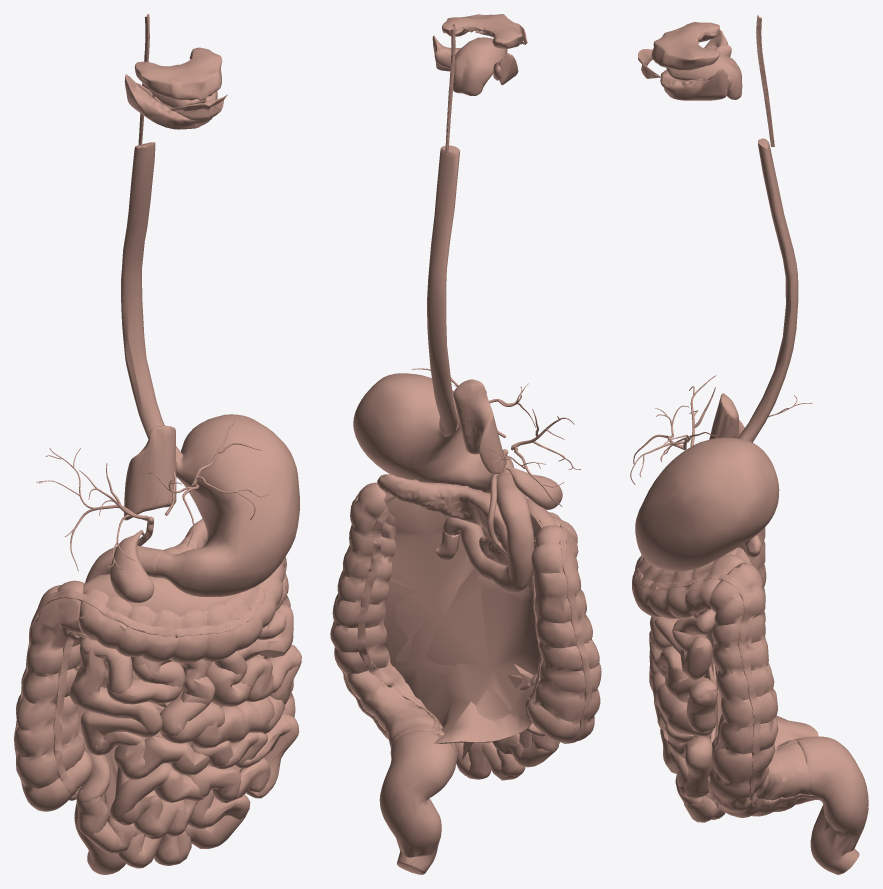
The model's file is digestive.glb.
3 views of the same model, side by side, from view 1: azimuth 30°, elevation 25°; view 2: azimuth 150°, elevation 25°; view 3: azimuth 270°, elevation 25° (orthographic). The views are drawn at different scales.
Visible parts, largest first — view 1: FMA7148, FMA16983, FMA14545, FMA14546, FMA14964, FMA14965, FMA7131, FMA14966, FMA16981, FMA13365, FMA59763, FMA16982 (+10 smaller); view 2: FMA14647, FMA14547, FMA14545, FMA7148, FMA14544, FMA7131, FMA7206, FMA14966, FMA13365, FMA7198, FMA15042, FMA63120 (+7 smaller); view 3: FMA14547, FMA7148, FMA14544, FMA7131, FMA14546, FMA16982, FMA16981, FMA15043, FMA59763, FMA14964, FMA59764, FMA54640 (+6 smaller).
Part boxes in pixels (bbox=[...]): FMA7148: bbox=[155, 414, 299, 596]; FMA16983: bbox=[69, 638, 245, 748]; FMA14545: bbox=[14, 580, 92, 811]; FMA14546: bbox=[79, 558, 285, 663]; FMA14964: bbox=[80, 711, 299, 787]; FMA14965: bbox=[110, 758, 273, 839]; FMA7131: bbox=[121, 142, 182, 459]; FMA14966: bbox=[76, 789, 250, 868]; FMA16981: bbox=[206, 584, 293, 706]; FMA13365: bbox=[124, 425, 176, 520]; FMA59763: bbox=[134, 47, 222, 100]; FMA16982: bbox=[236, 645, 301, 740]; FMA14647: bbox=[383, 492, 556, 743]; FMA14547: bbox=[330, 483, 457, 761]; FMA14545: bbox=[528, 525, 601, 743]; FMA7148: bbox=[353, 373, 514, 493]; FMA14544: bbox=[379, 730, 456, 874]; FMA7131: bbox=[427, 145, 459, 436]; FMA7206: bbox=[443, 474, 534, 593]; FMA14966: bbox=[456, 734, 559, 780]; FMA13365: bbox=[453, 379, 505, 473]; FMA7198: bbox=[377, 474, 507, 566]; FMA15042: bbox=[357, 507, 543, 733]; FMA63120: bbox=[379, 474, 508, 565]; FMA14547: bbox=[707, 563, 809, 817]; FMA7148: bbox=[635, 437, 779, 571]; FMA14544: bbox=[794, 736, 868, 874]; FMA7131: bbox=[737, 138, 798, 442]; FMA14546: bbox=[632, 554, 746, 618]; FMA16982: bbox=[655, 649, 718, 736]; FMA16981: bbox=[649, 609, 715, 680]; FMA15043: bbox=[634, 555, 814, 807]; FMA59763: bbox=[651, 22, 719, 70]; FMA14964: bbox=[654, 699, 712, 798]; FMA59764: bbox=[660, 30, 728, 100]; FMA54640: bbox=[666, 53, 742, 99].
Size of the model in its own units: 0.4985 by 1.52 by 0.3819.
